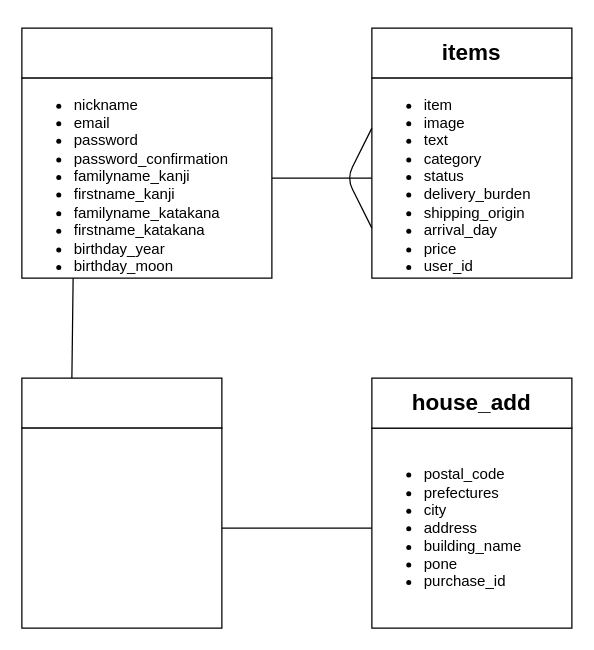
Some shapes in this 594 by 650 pixel diagram are drawn without their labels. Here are the shapes that lost their labels. From the top down, the box of each, then its label:
(21, 27, 272, 78): user
(21, 377, 222, 428): purchase
(21, 427, 222, 628): card_data deadline_moon deadline_year cvv2 user_id
